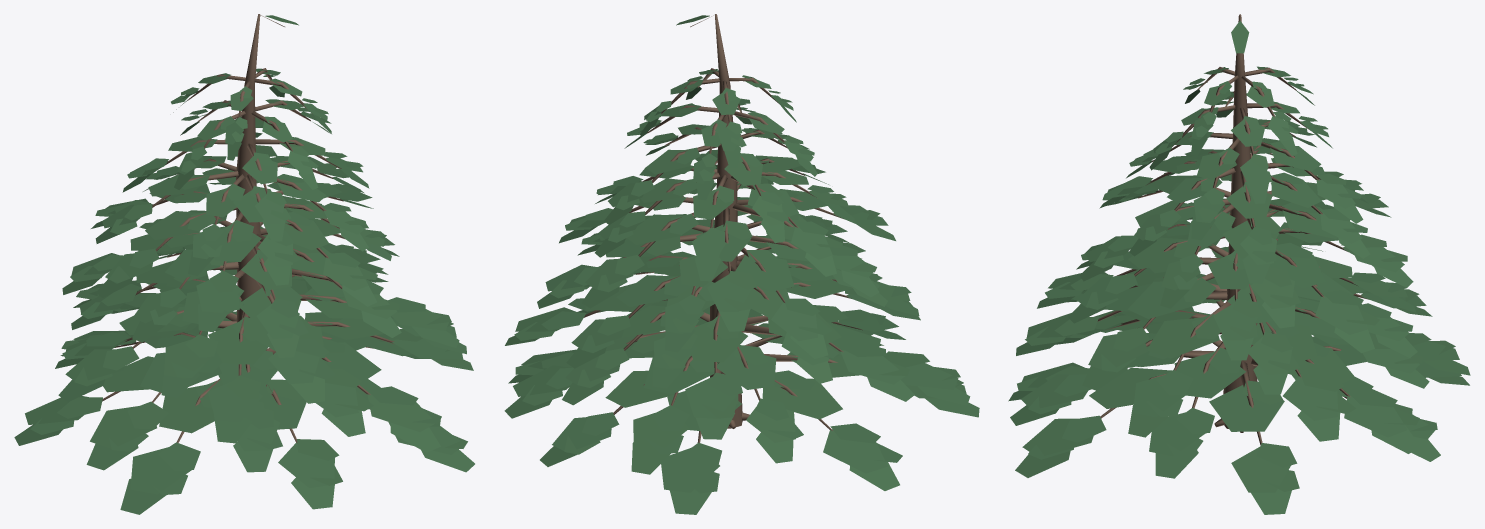
File: hemlock-young.glb
The picture shows the model from 3 angles, left to right: view 1: azimuth 30°, elevation 25°; view 2: azimuth 150°, elevation 25°; view 3: azimuth 270°, elevation 25°; orthographic projection. The views are drawn at different scales.
Visible parts, largest first — view 1: tree_hemlock-young_LOD0; view 2: tree_hemlock-young_LOD0; view 3: tree_hemlock-young_LOD0.
Part boxes in pixels (bbox=[...]): tree_hemlock-young_LOD0: bbox=[14, 14, 474, 514]; tree_hemlock-young_LOD0: bbox=[504, 14, 979, 514]; tree_hemlock-young_LOD0: bbox=[1008, 14, 1470, 514].
Size of the model in its own units: 7.75 by 7.51 by 7.6.
